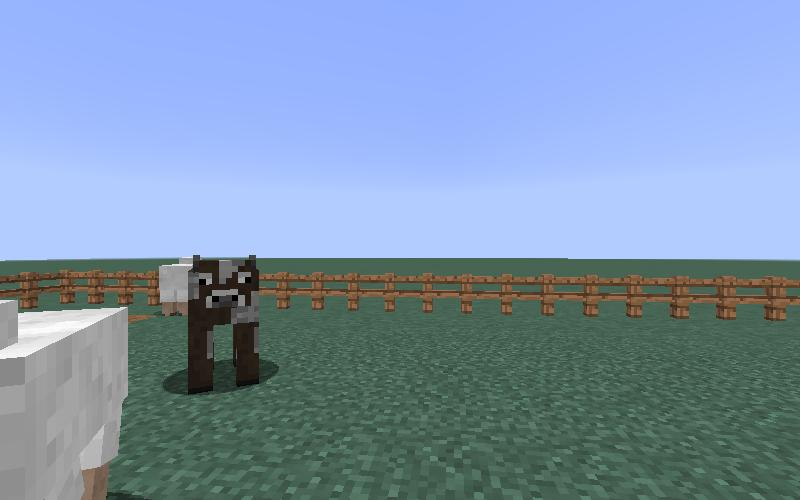cow: (184, 252, 264, 396)
sheep: (1, 297, 130, 498)
